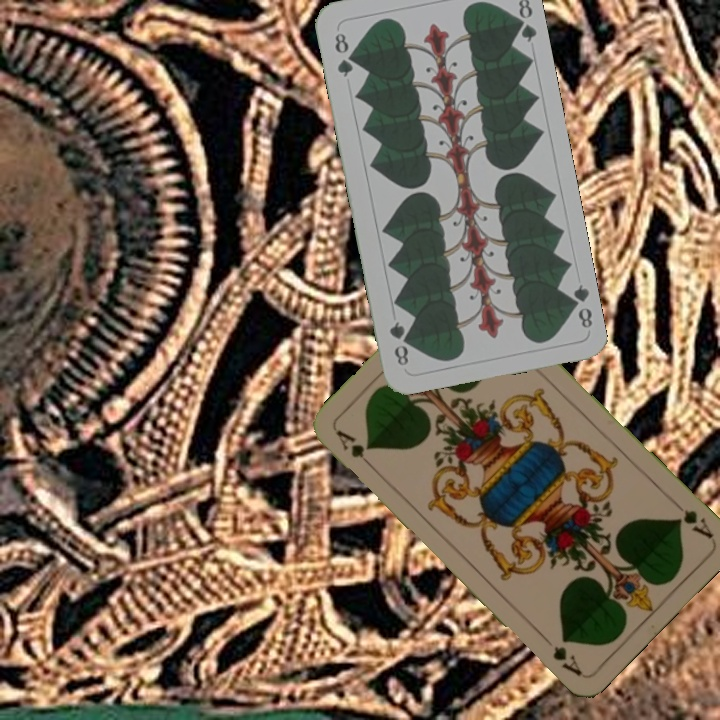G8: (563, 280, 595, 331), (330, 28, 356, 80)
GA: (670, 496, 717, 542), (332, 426, 378, 472)
